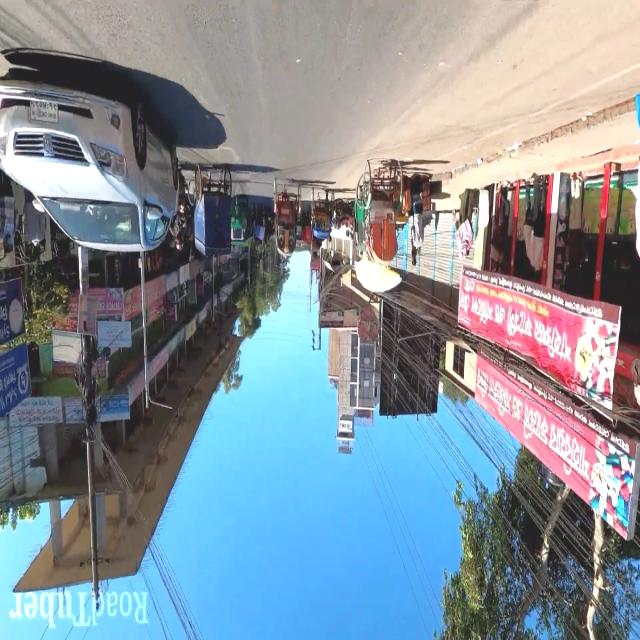silver: (0, 72, 180, 254)
